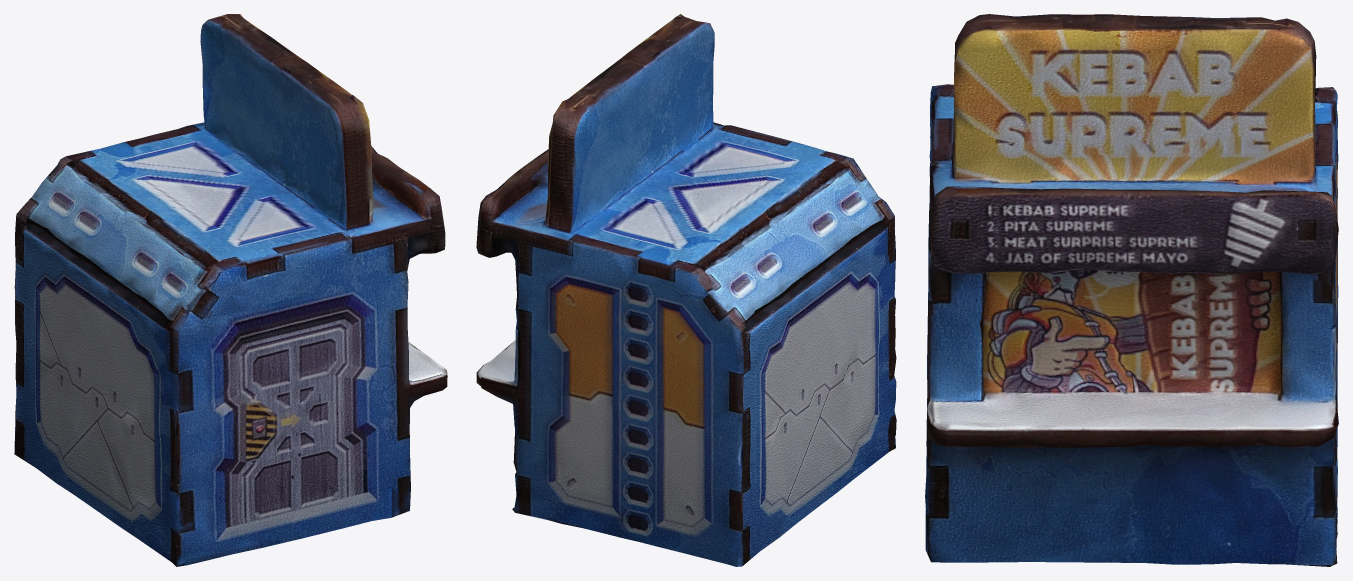
File: street-booth-size-3-2.glb
The picture shows the model from 3 angles, left to right: view 1: azimuth 30°, elevation 25°; view 2: azimuth 150°, elevation 25°; view 3: azimuth 270°, elevation 25°; orthographic projection. The views are drawn at different scales.
Visible parts, largest first — view 1: Kebab_supreme; view 2: Kebab_supreme; view 3: Kebab_supreme.
Boxes of the visible parts, x1,y1,x2,y2 form: Kebab_supreme: [14, 14, 447, 566]; Kebab_supreme: [476, 14, 896, 566]; Kebab_supreme: [925, 14, 1338, 566].
Size of the model in its own units: 2.36 by 3.3 by 2.38.
1 material, 1 textured.
